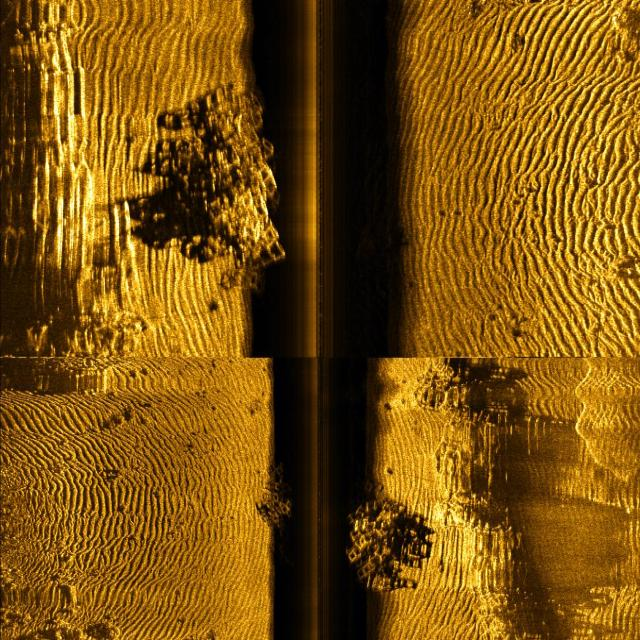artificial reef: (187, 70, 295, 299), (347, 478, 410, 592), (260, 471, 321, 562)
